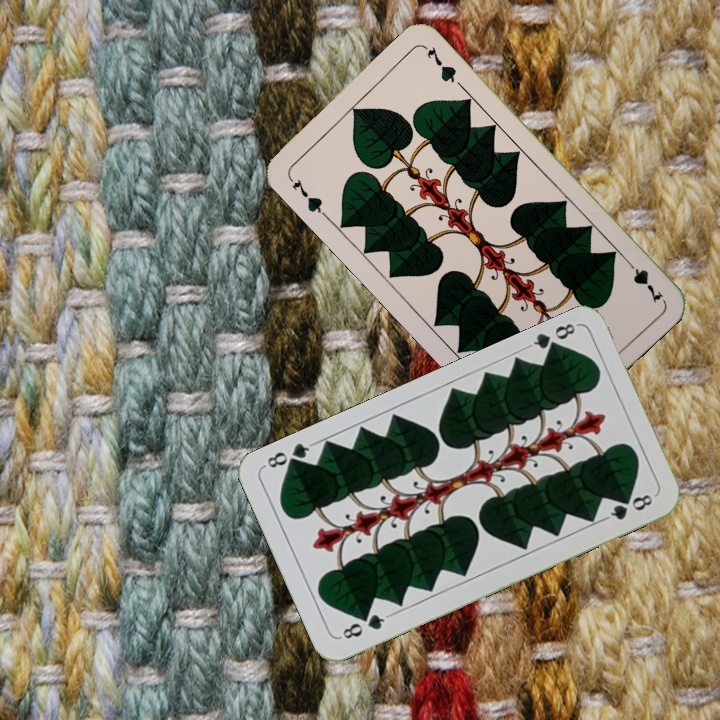G7: (621, 254, 666, 306), (284, 172, 329, 220)
G8: (524, 319, 580, 357), (336, 610, 392, 642)
